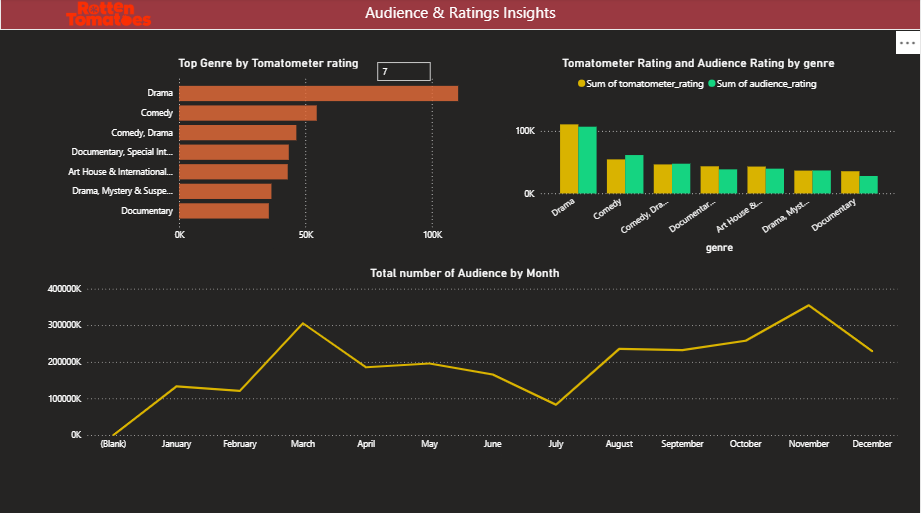

The dashboard page shown, as its layout file describes it:
{"tool":"powerbi","page":{"name":"Audience & Ratings Insights","canvas":[1280,720],"ordinal":1},"visuals":[{"type":"barChart","title":"Top Genre by Tomatometer rating","fields":{"Y":["Sum(Rotten Tomatoes Movies.tomatometer_rating)"],"Category":["Rotten Tomatoes Movies.genre"]},"box":[57,79.2,632.4,280.8],"z":0},{"type":"slicer","fields":{"Values":["Parameter.Parameter"]},"box":[511.5,79.2,177.9,40.3],"z":1000},{"type":"clusteredColumnChart","title":"Tomatometer Rating and Audience Rating by genre","fields":{"Category":["Rotten Tomatoes Movies.genre"],"Y":["Sum(Rotten Tomatoes Movies.tomatometer_rating)","Sum(Rotten Tomatoes Movies.audience_rating)"]},"box":[689.4,79.2,562.9,280.8],"z":2000},{"type":"lineChart","title":"Total number of Audience by Month","fields":{"Y":["Sum(Rotten Tomatoes Movies.audience_count)"],"Category":["Rotten Tomatoes Movies.on_streaming_date.Variation.Date Hierarchy.Month"]},"box":[40.3,371.1,1212,279.4],"z":3000},{"type":"textbox","box":[0,0,1280.2,44.5],"z":4000},{"type":"image","box":[57,0,187.6,44.5],"z":5000}]}

Visuals, with their boxes in screenshot pixels (x1, y1, x2, y2), scaled from the page's 1280x720 canvas onto the 921x513 screenshot:
"Top Genre by Tomatometer rating" barChart: box=[41, 56, 496, 256]
slicer - Parameter.Parameter: box=[368, 56, 496, 85]
"Tomatometer Rating and Audience Rating by genre" clusteredColumnChart: box=[496, 56, 901, 256]
"Total number of Audience by Month" lineChart: box=[29, 264, 901, 463]
textbox: box=[0, 0, 920, 32]
image: box=[41, 0, 176, 32]
